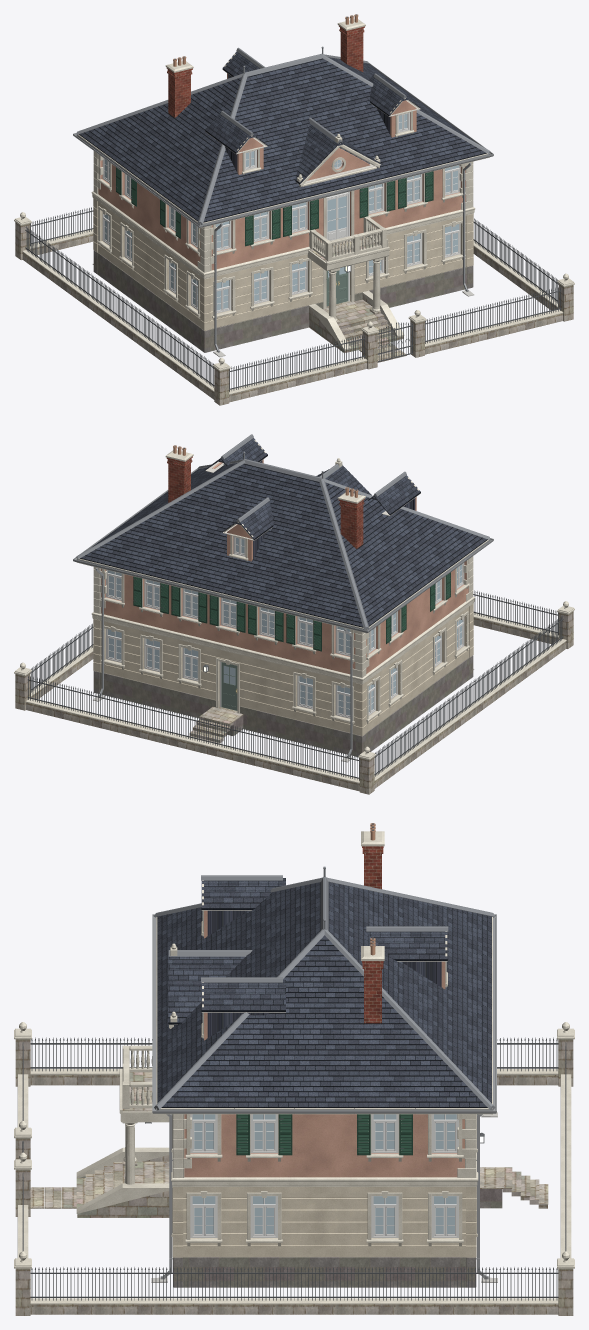
Rendered from building_assembled.glb.
3 renders of one model, top to bottom at view 1: azimuth 30°, elevation 25°; view 2: azimuth 150°, elevation 25°; view 3: azimuth 270°, elevation 25°, orthographic. The views are drawn at different scales.
Parts seen in each view (by area): view 1: building_shingles, building_trim, building_iron, building_rust, building_stone2, building_render, building_plinth, building_glass, building_ridge, building_frame, building_sash, building_gutter (+3 smaller); view 2: building_shingles, building_trim, building_rust, building_iron, building_render, building_stone2, building_plinth, building_glass, building_ridge, building_shutter, building_sash, building_gutter (+3 smaller); view 3: building_shingles, building_trim, building_stone2, building_rust, building_iron, building_render, building_plinth, building_ridge, building_glass, building_gutter, building_frame, building_sash (+2 smaller).
Part boxes in pixels (x1=…): building_shingles: x1=79, y1=51, x2=486, y2=222; building_trim: x1=14, y1=19, x2=574, y2=394; building_iron: x1=25, y1=175, x2=561, y2=391; building_rust: x1=93, y1=198, x2=473, y2=330; building_stone2: x1=15, y1=222, x2=573, y2=405; building_render: x1=98, y1=73, x2=465, y2=270; building_plinth: x1=93, y1=250, x2=473, y2=352; building_glass: x1=104, y1=114, x2=458, y2=310; building_ridge: x1=76, y1=46, x2=490, y2=224; building_frame: x1=102, y1=112, x2=460, y2=313; building_sash: x1=103, y1=113, x2=459, y2=311; building_gutter: x1=73, y1=63, x2=493, y2=352; building_shingles: x1=80, y1=438, x2=487, y2=627; building_trim: x1=14, y1=440, x2=574, y2=783; building_rust: x1=93, y1=603, x2=473, y2=735; building_iron: x1=27, y1=579, x2=563, y2=780; building_render: x1=101, y1=459, x2=468, y2=674; building_stone2: x1=15, y1=611, x2=573, y2=794; building_plinth: x1=93, y1=655, x2=473, y2=756; building_glass: x1=108, y1=537, x2=462, y2=715; building_ridge: x1=76, y1=434, x2=490, y2=630; building_shutter: x1=133, y1=572, x2=450, y2=651; building_sash: x1=107, y1=537, x2=462, y2=717; building_gutter: x1=73, y1=468, x2=493, y2=757; building_shingles: x1=157, y1=878, x2=491, y2=1108; building_trim: x1=14, y1=831, x2=574, y2=1304; building_stone2: x1=15, y1=1039, x2=573, y2=1315; building_rust: x1=172, y1=1187, x2=476, y2=1257; building_iron: x1=22, y1=1037, x2=566, y2=1300; building_render: x1=184, y1=910, x2=464, y2=1177; building_plinth: x1=173, y1=1189, x2=502, y2=1287; building_ridge: x1=154, y1=866, x2=495, y2=1110; building_glass: x1=192, y1=1114, x2=456, y2=1233; building_gutter: x1=152, y1=914, x2=496, y2=1279; building_frame: x1=190, y1=1114, x2=458, y2=1237; building_sash: x1=192, y1=1122, x2=456, y2=1235.
Bounding box in the file's own units: 18.6 × 11.5 × 18.6.
Materials: 25 (11 with a texture image).
